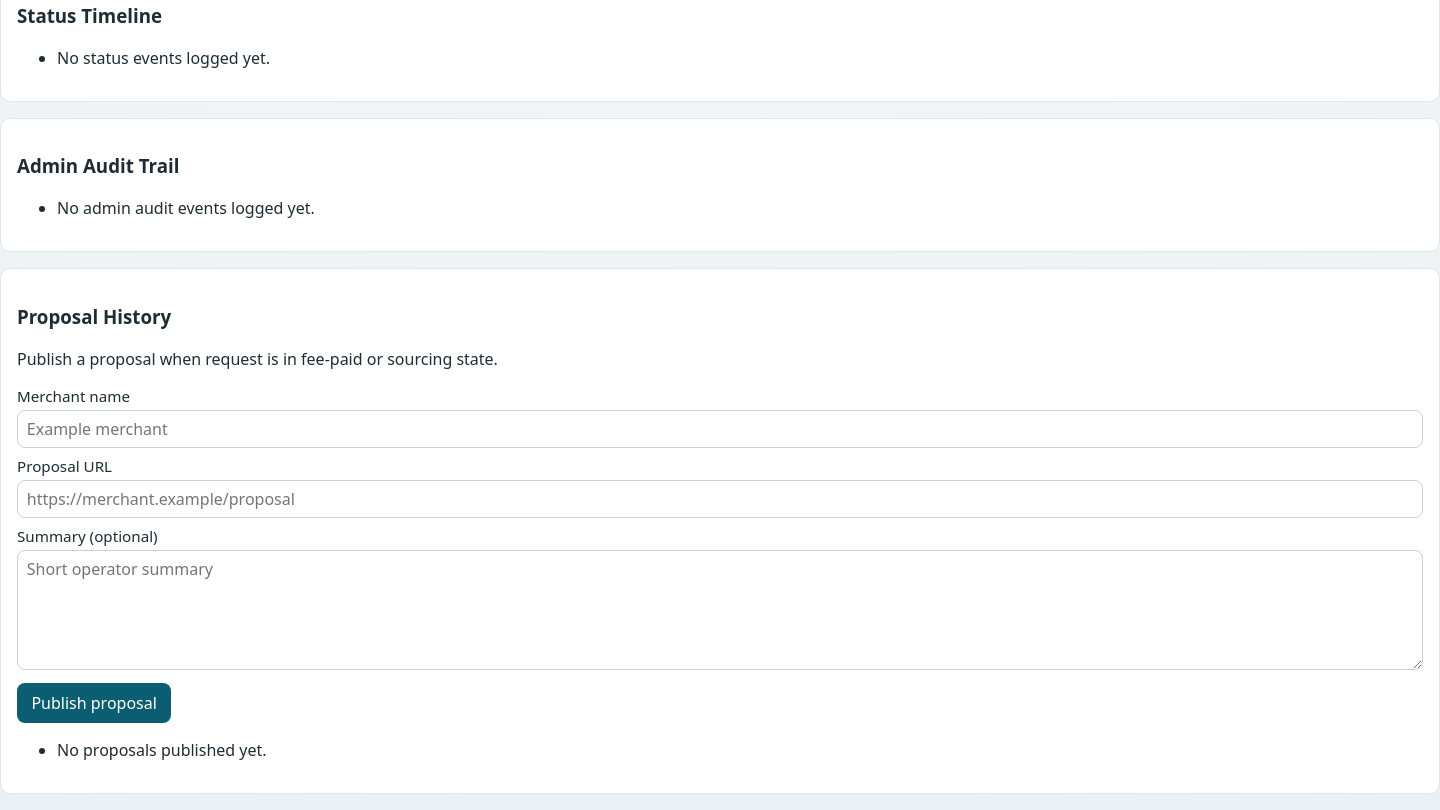
Test: OperatorRequestDetailPage › publishes a proposal and refreshes detail when request is sourcing
(page scrolled)
Check: the button "Publish proposal" is shown, box [17,683,171,723]
Type "Prime Mobility" into the field labelled "Merchant name" at (720, 429), box [17,410,1423,448]
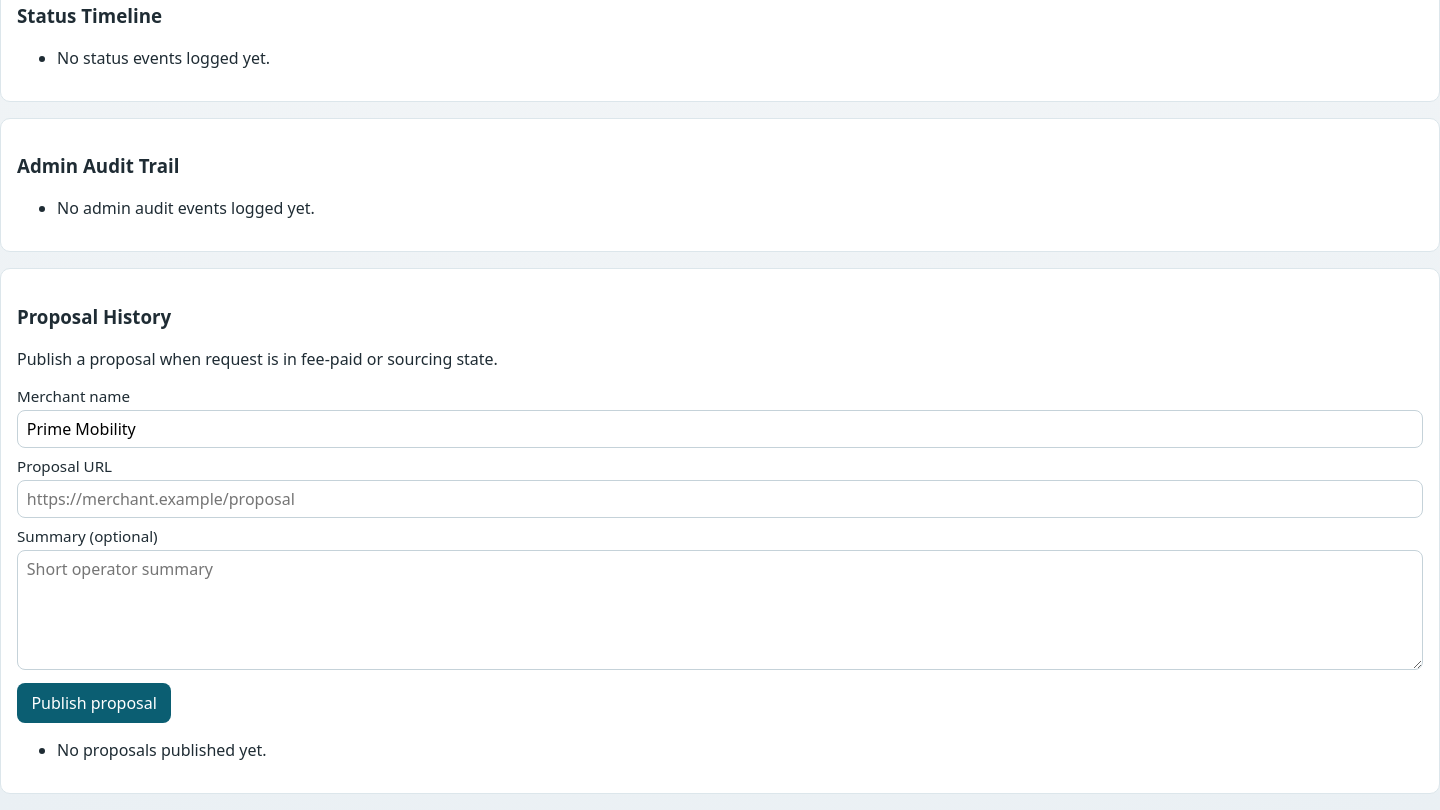
Type "https://merchant.example/p/10" into the field labelled "Proposal URL" at (720, 499), box [17,480,1423,518]
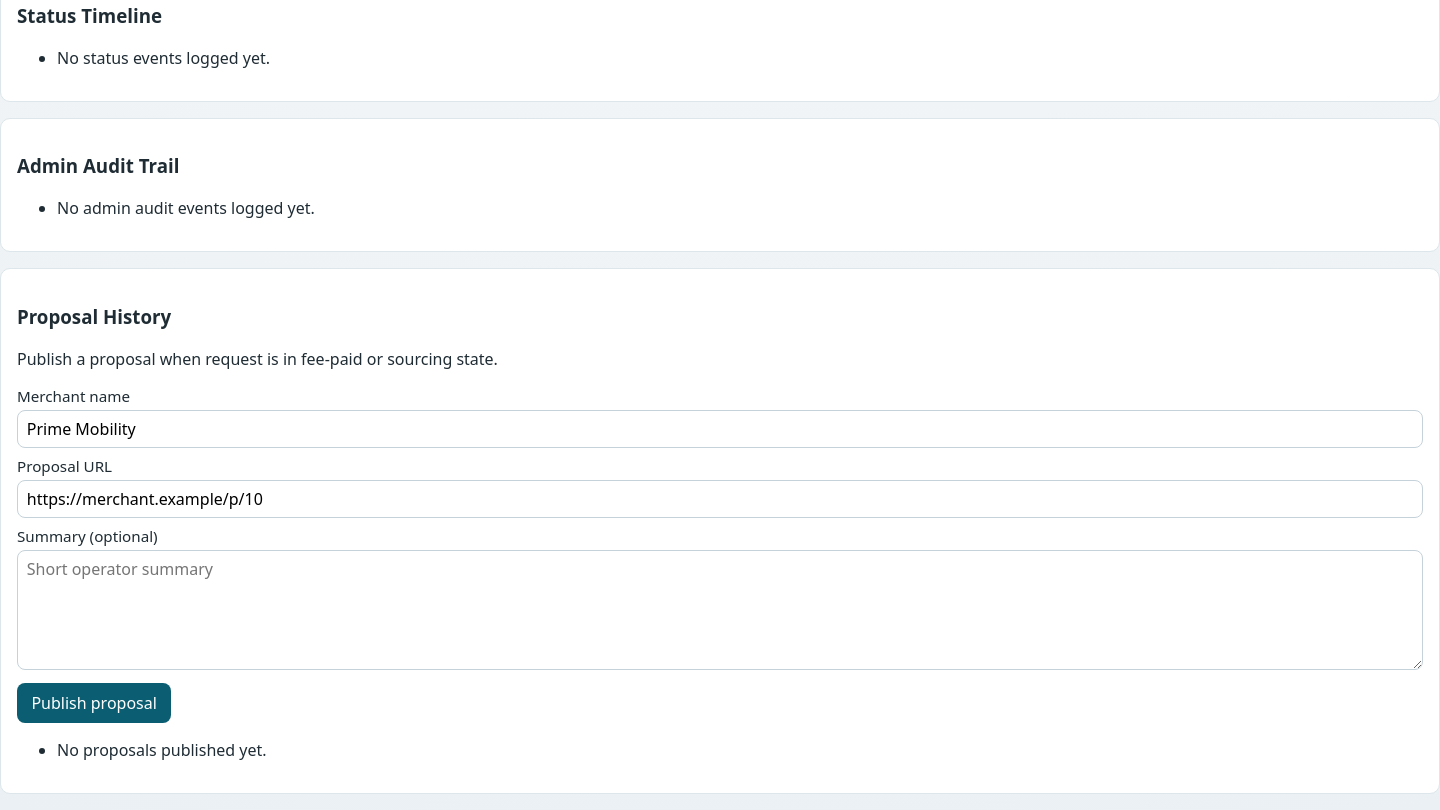
Type "Fresh sourcing result" into the text box labelled "Summary (optional)" at (720, 610), box [17,550,1423,670]
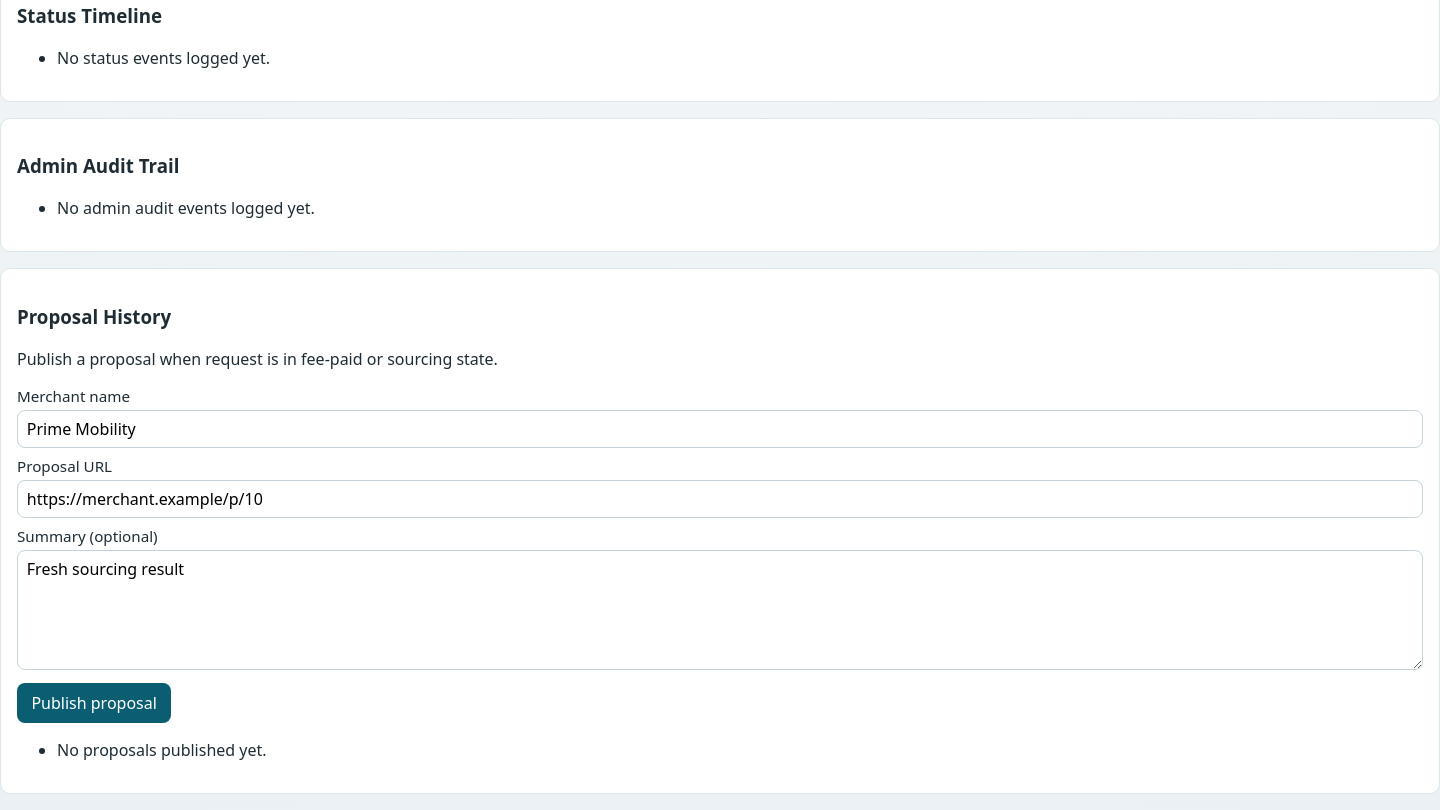
Click the button "Publish proposal" at (94, 703), box [17,683,171,723]
(page scrolled)
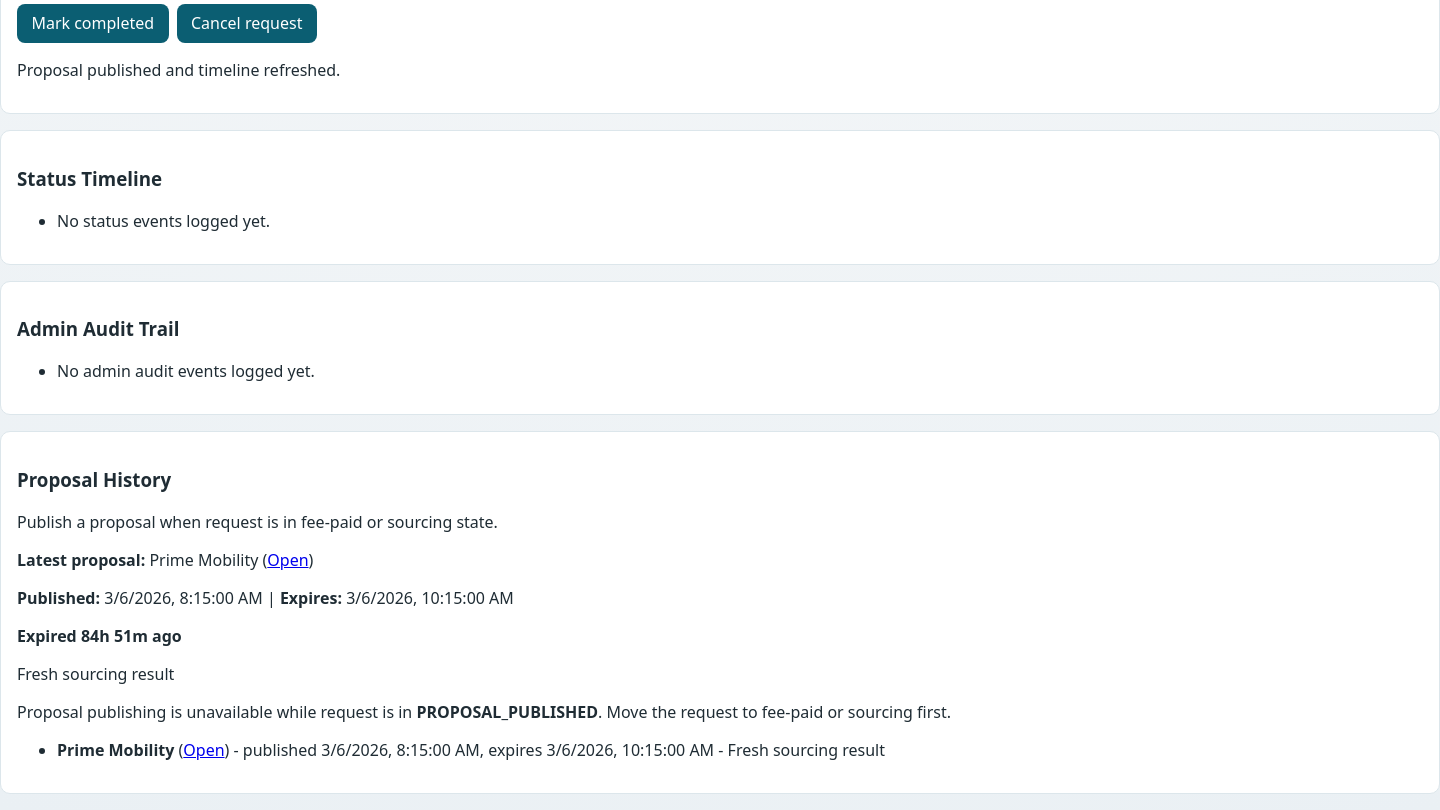
Check: the text "Proposal published and timeline refreshed." is shown, box [17,59,340,81]
